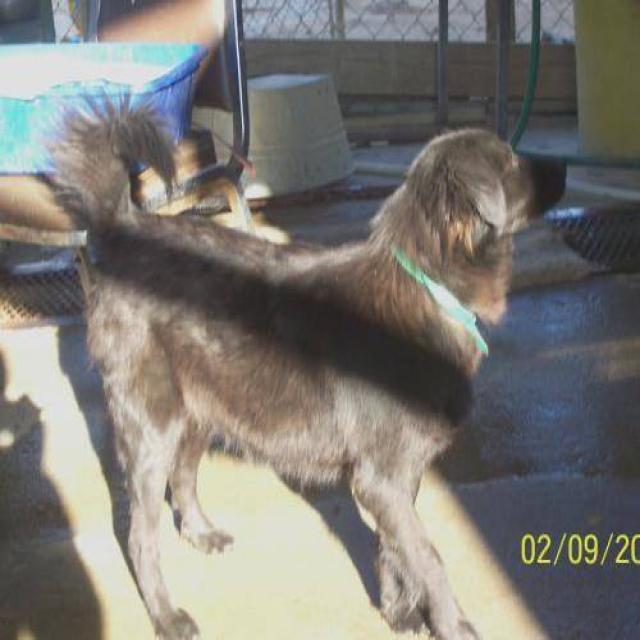dog: (44, 94, 567, 638)
